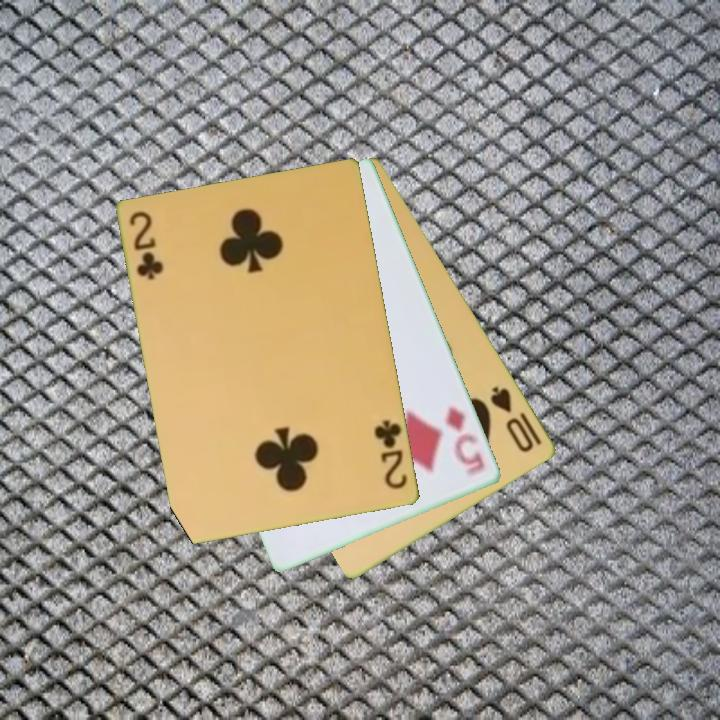10s: (487, 383, 545, 456)
2c: (371, 416, 411, 493), (126, 208, 166, 284)
5d: (442, 403, 488, 479)
